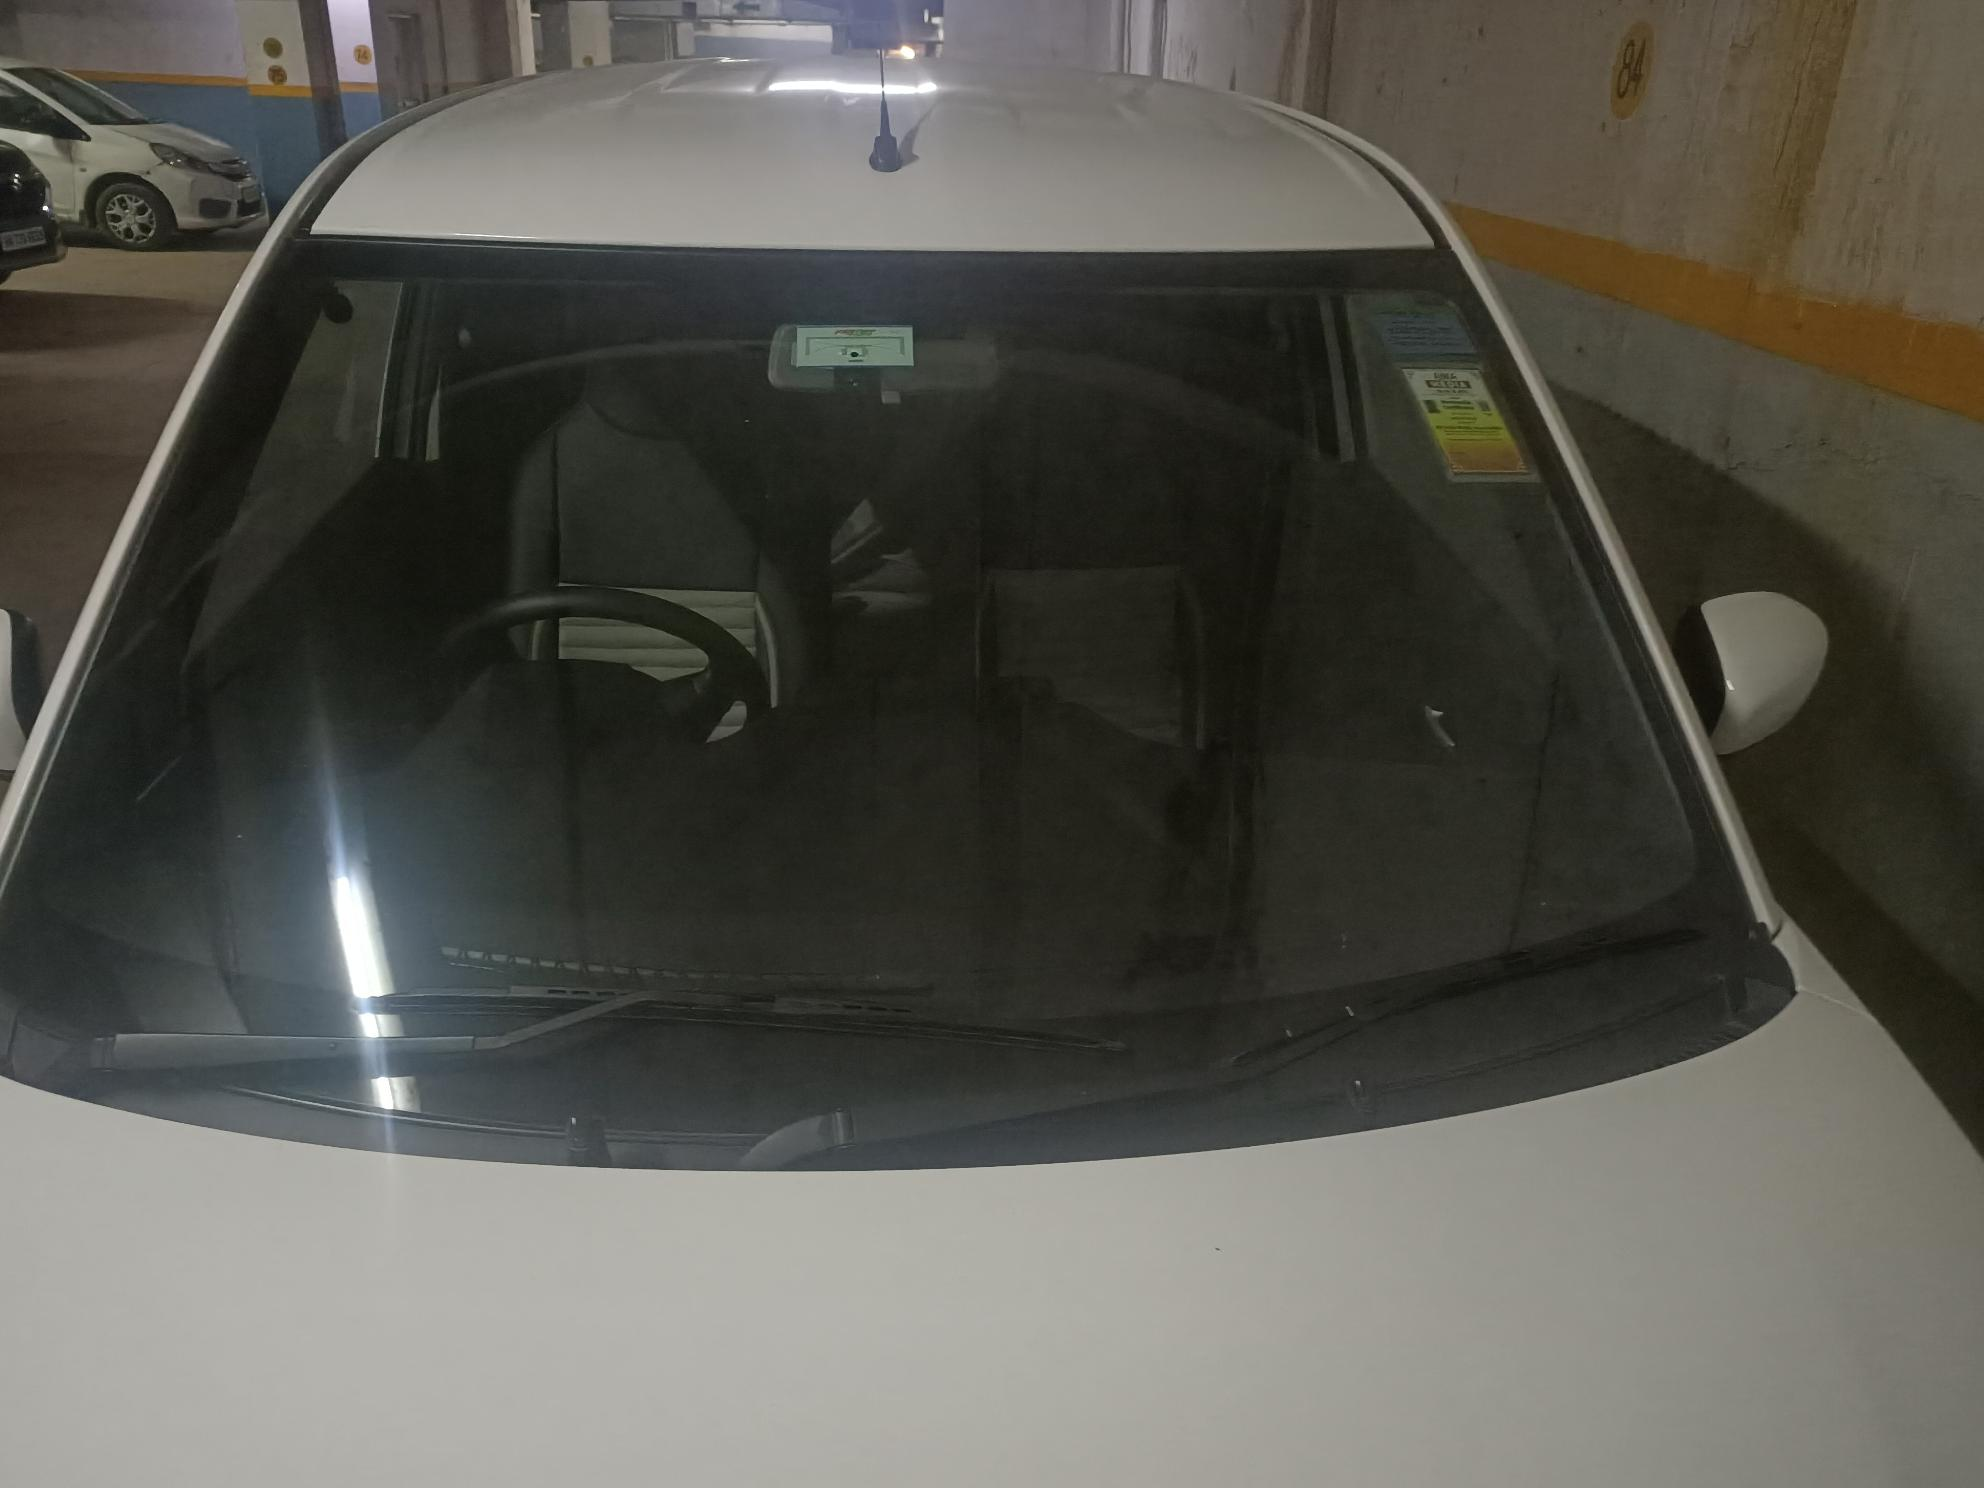FastTag: (790, 308, 930, 378)
not a FastTag: (1410, 362, 1532, 508)
